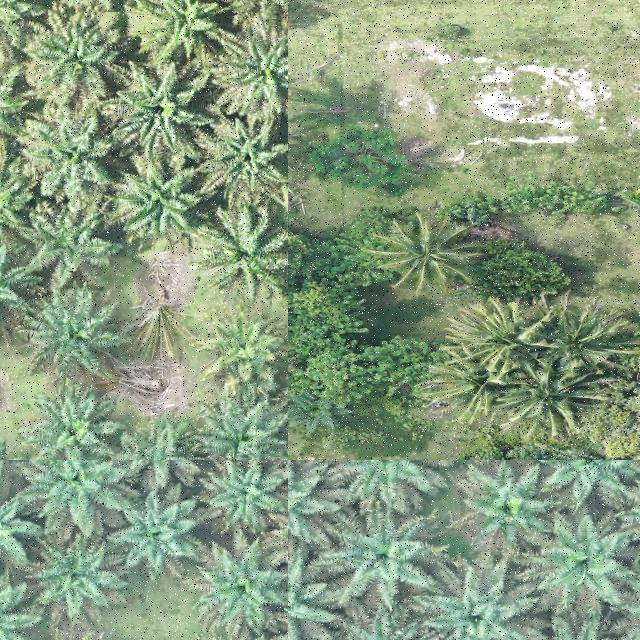Ganoderma: (132, 295, 182, 338)
